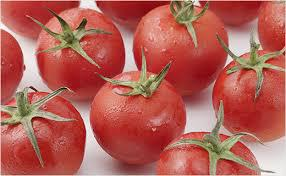tomato: (132, 4, 228, 94), (89, 73, 185, 161), (37, 9, 125, 100), (3, 88, 82, 171), (213, 53, 284, 141), (162, 131, 258, 172)
